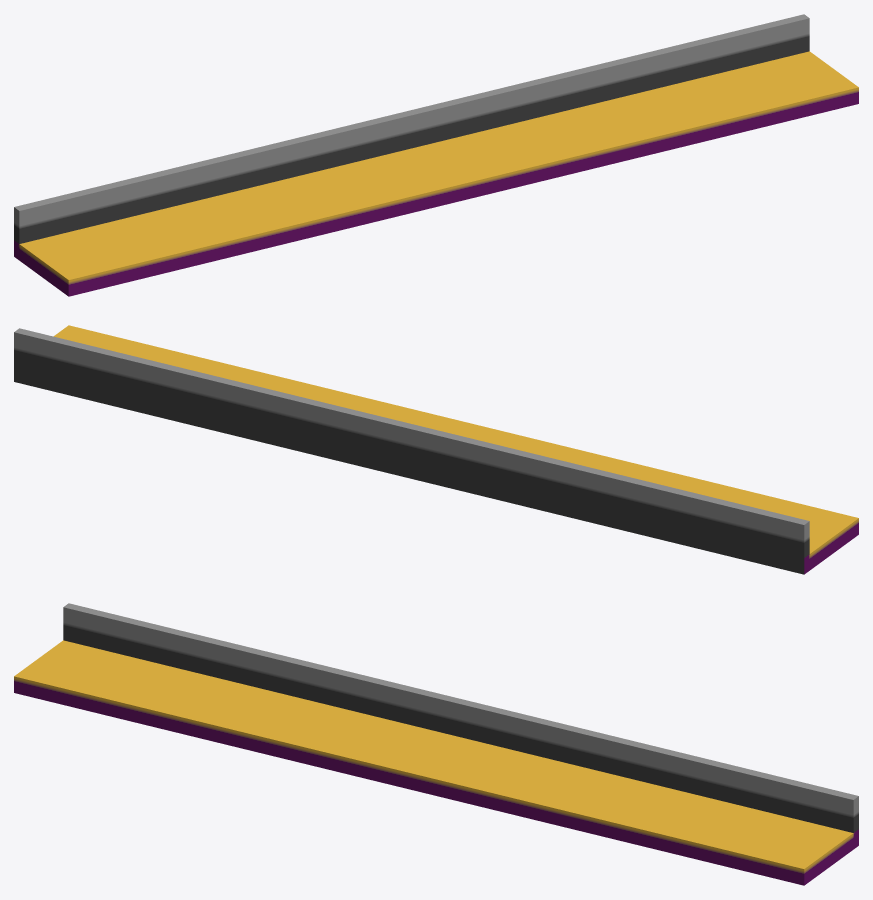
The model's file is LeftBG.fbx.
3 views of the same model, one above another, from view 1: azimuth 30°, elevation 25°; view 2: azimuth 150°, elevation 25°; view 3: azimuth 330°, elevation 25° (orthographic).
Visible parts, largest first — view 1: LeftBG; view 2: LeftBG; view 3: LeftBG.
Part boxes in pixels (bbox=[...]): LeftBG: bbox=[14, 14, 858, 296]; LeftBG: bbox=[14, 325, 858, 574]; LeftBG: bbox=[14, 603, 858, 885].
Size of the model in its own units: 250 by 15 by 30.
Materials: 1 (1 with a texture image).
